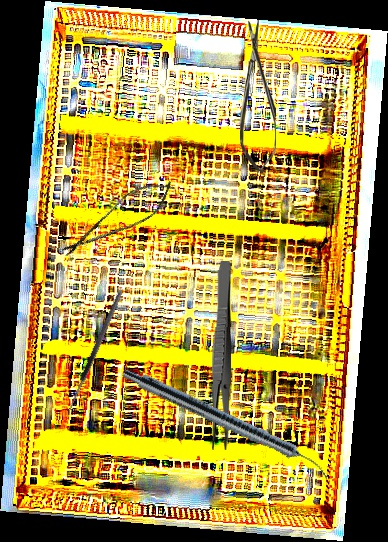Dressing Forceps: (210, 260, 233, 451)
Handpiece: (118, 364, 335, 481)
Hook Surgical: (63, 288, 130, 423)
Micro Scissor: (55, 170, 182, 268), (240, 20, 276, 173)
